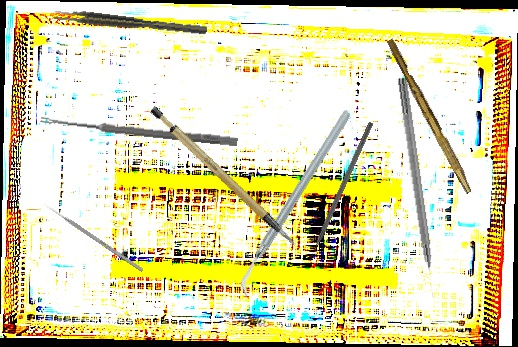Chopper: (189, 108, 402, 299)
Hook Surgical: (304, 120, 374, 265), (394, 77, 439, 298)
Pusher: (42, 201, 144, 273)
Scalpel Handle: (147, 89, 299, 268), (383, 37, 477, 195)
Surgical Spoon: (40, 115, 238, 147)
Tissue Forceps: (52, 7, 208, 40)
